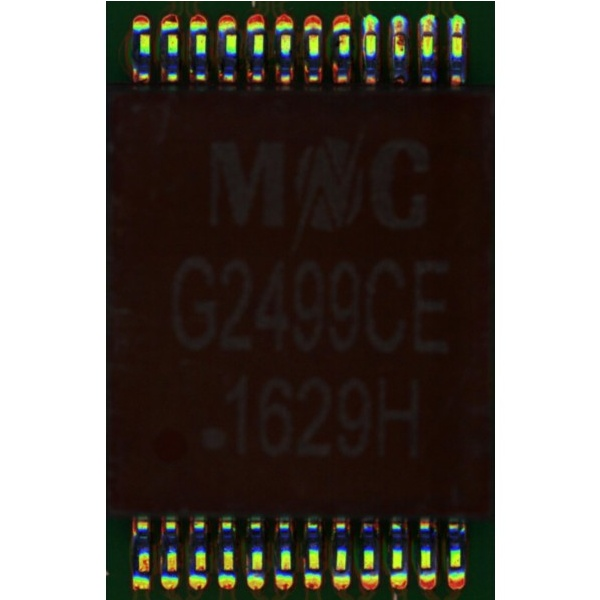Bad_podu: (422, 25, 432, 38), (366, 23, 375, 37), (393, 27, 404, 38), (451, 27, 461, 39)
